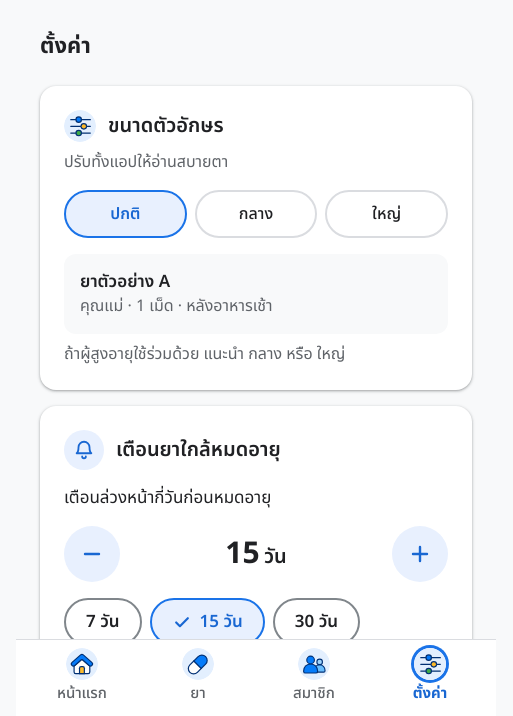
Test: thresholds apply at once, with no save button › a chip changes the value at once, saves it, and the chosen chip says so (tick + aria-checked)
Click the radio button labelled "30 วัน" at (316, 622), box [273,598,360,646]
(page scrolled)
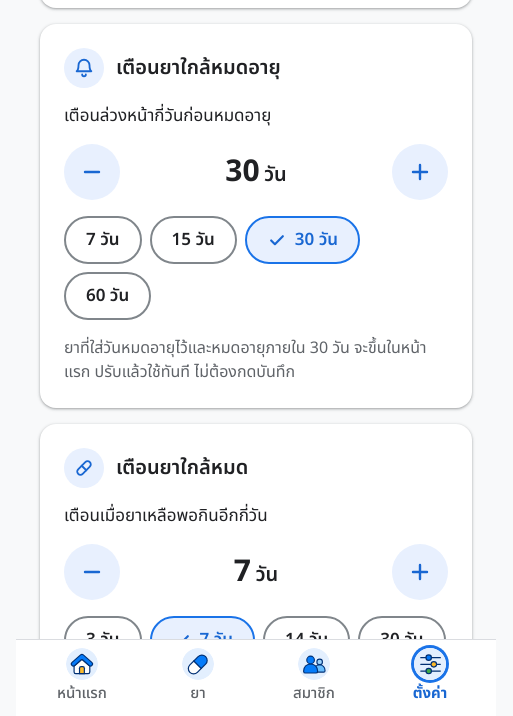
Expected: the text "หมดอายุภายใน 30 วัน" is shown, [64,336,427,384]
